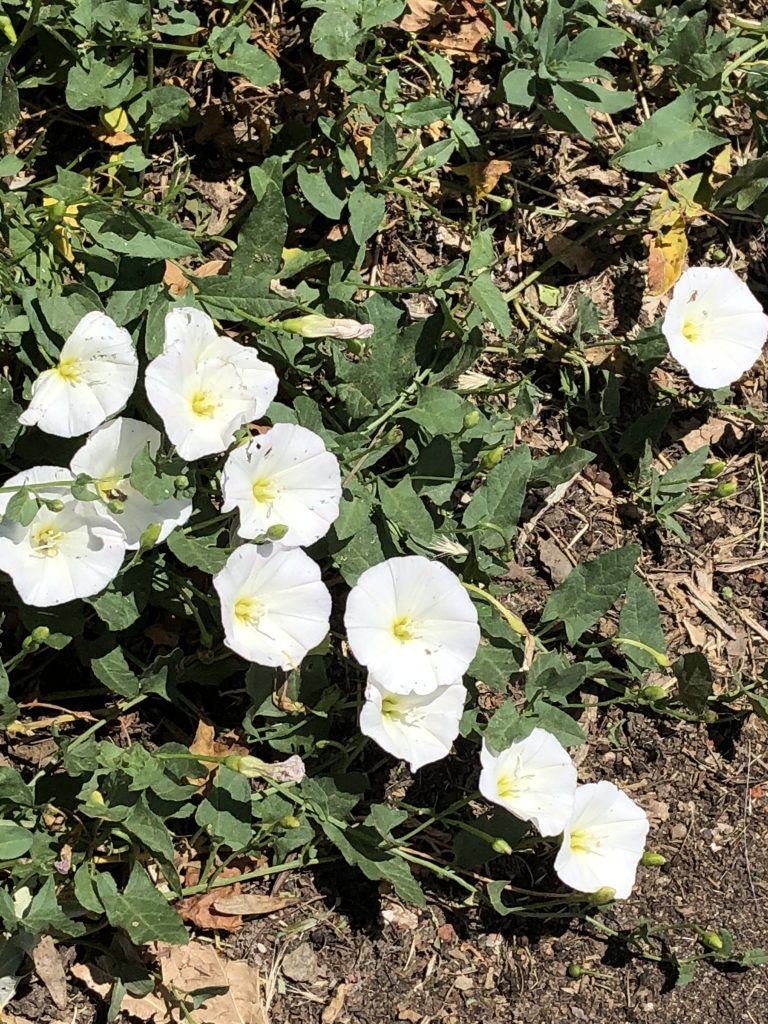bindweed: (145, 308, 280, 467), (343, 552, 484, 694), (2, 464, 127, 608), (67, 417, 197, 550), (217, 419, 344, 550), (14, 309, 140, 437), (211, 541, 333, 672), (658, 261, 768, 391), (552, 780, 651, 903), (477, 724, 581, 841), (358, 674, 467, 772)
